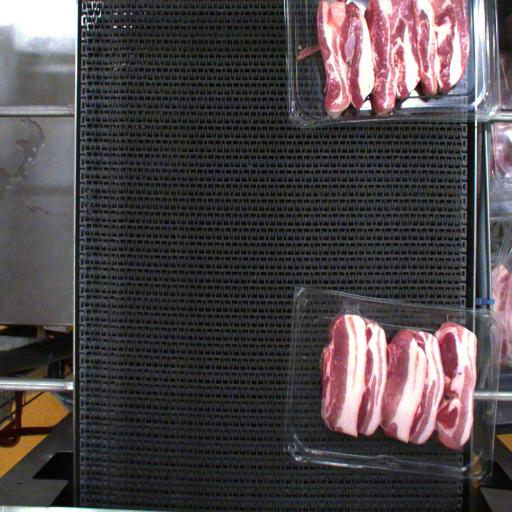packaging-error: (338, 302, 372, 326)
